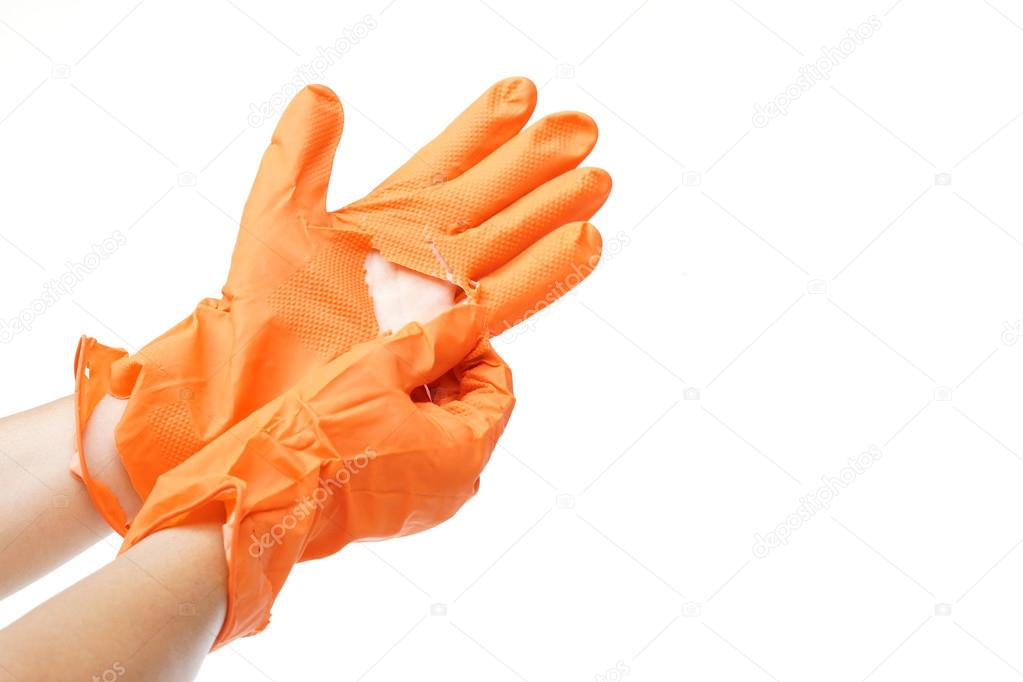defected: (181, 59, 696, 429)
